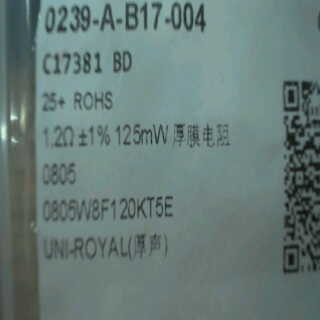1.2R: (40, 118, 81, 186)
